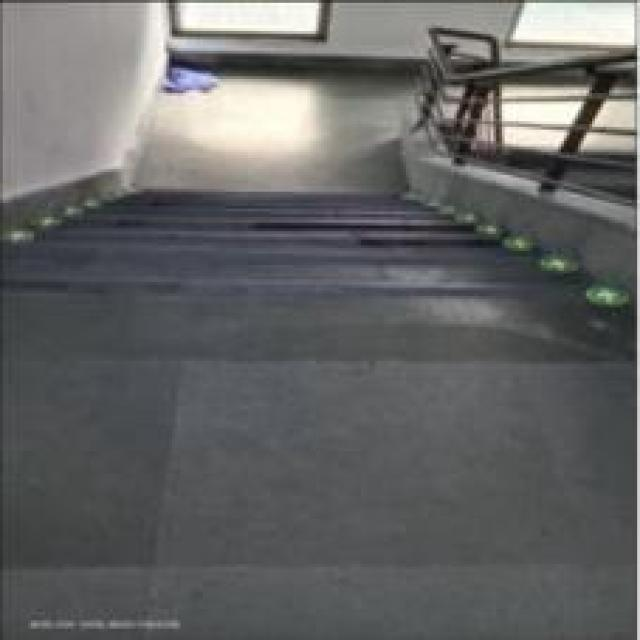downstair: (49, 190, 469, 365)
